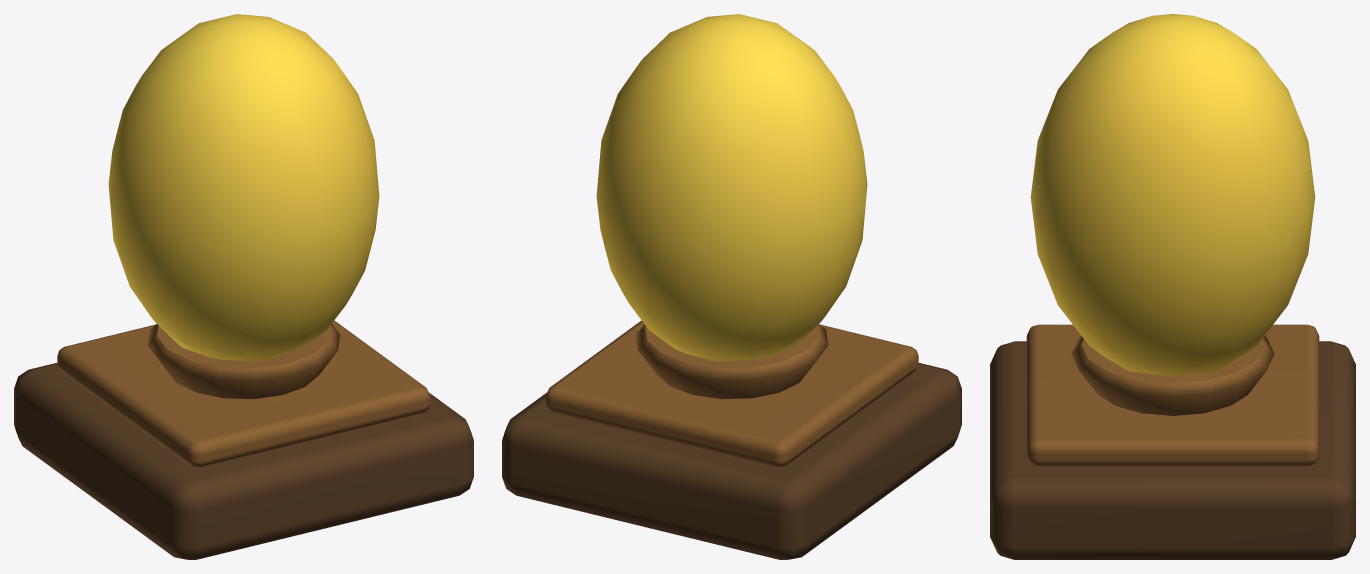
The model's file is furn_golden_egg.glb.
3 views of the same model, side by side, from view 1: azimuth 30°, elevation 25°; view 2: azimuth 150°, elevation 25°; view 3: azimuth 270°, elevation 25° (orthographic). The views are drawn at different scales.
Parts seen in each view (by area): view 1: furn_golden_egg_main, furn_golden_egg_gloss; view 2: furn_golden_egg_main, furn_golden_egg_gloss; view 3: furn_golden_egg_gloss, furn_golden_egg_main.
Part boxes in pixels (bbox=[...]): furn_golden_egg_main: bbox=[14, 320, 473, 559]; furn_golden_egg_gloss: bbox=[108, 14, 379, 361]; furn_golden_egg_main: bbox=[502, 320, 961, 559]; furn_golden_egg_gloss: bbox=[596, 14, 867, 361]; furn_golden_egg_gloss: bbox=[1030, 14, 1315, 375]; furn_golden_egg_main: bbox=[990, 324, 1355, 559].
Bounding box in the file's own units: 0.18 × 0.255 × 0.18.
